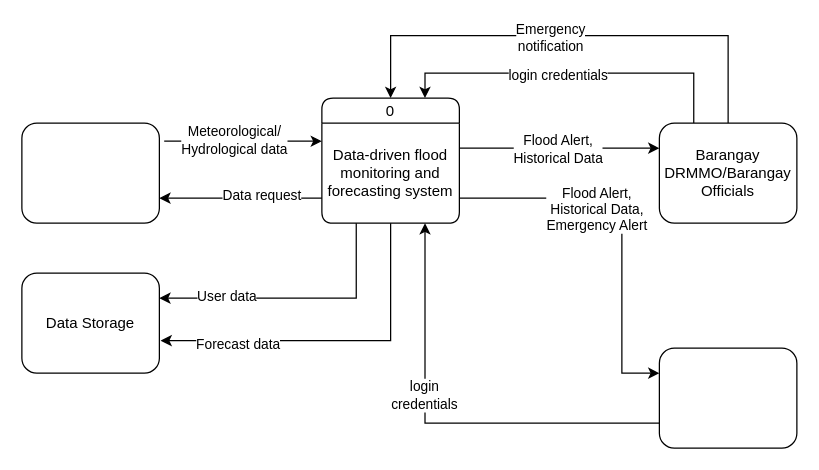
This 819x470 diagram has some shape labels left out. The centre of each missing label's shape, as x and y in pixels:
PAGASA/ External Data Sources: point (90, 172)
Residents: point (727, 397)
